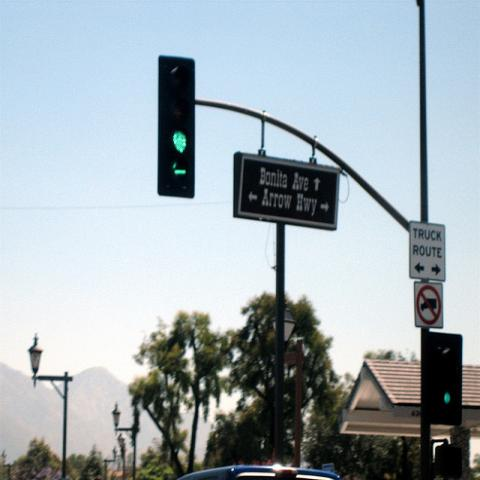truck: (173, 465, 345, 479)
